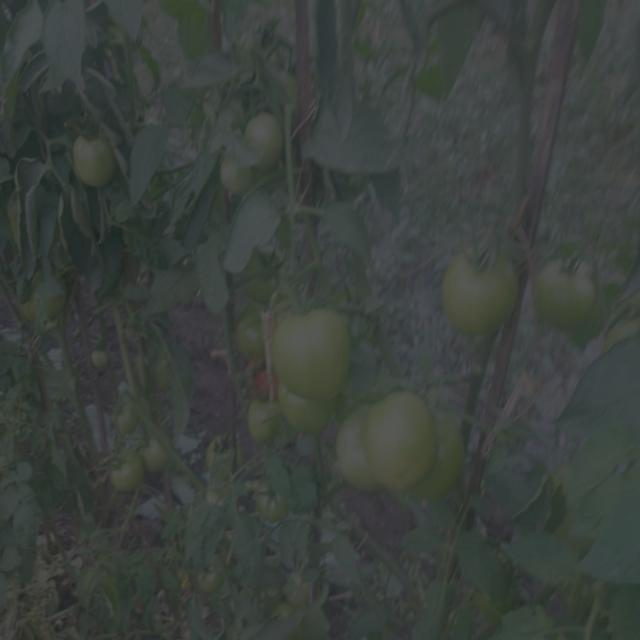tomato: (271, 302, 350, 397), (443, 244, 522, 336), (363, 393, 433, 490), (532, 256, 601, 324), (274, 386, 333, 444), (423, 415, 462, 495), (71, 128, 119, 190), (341, 408, 370, 494), (245, 116, 291, 166), (20, 280, 64, 327), (107, 447, 148, 495), (242, 394, 277, 442), (254, 485, 292, 526), (233, 319, 272, 354), (218, 159, 251, 197), (145, 437, 168, 483), (117, 396, 141, 435), (204, 439, 241, 464), (254, 367, 277, 393), (196, 568, 221, 590), (92, 351, 107, 373)
